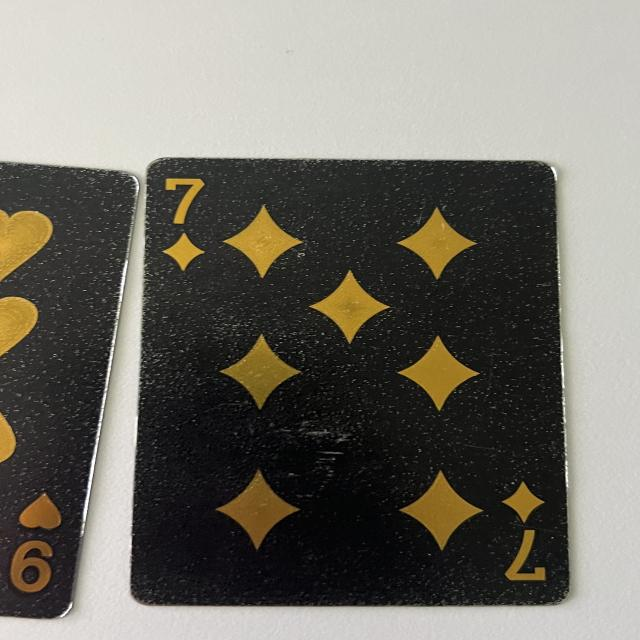7D: (495, 474, 558, 586), (153, 170, 217, 271)
9H: (8, 487, 66, 594)
